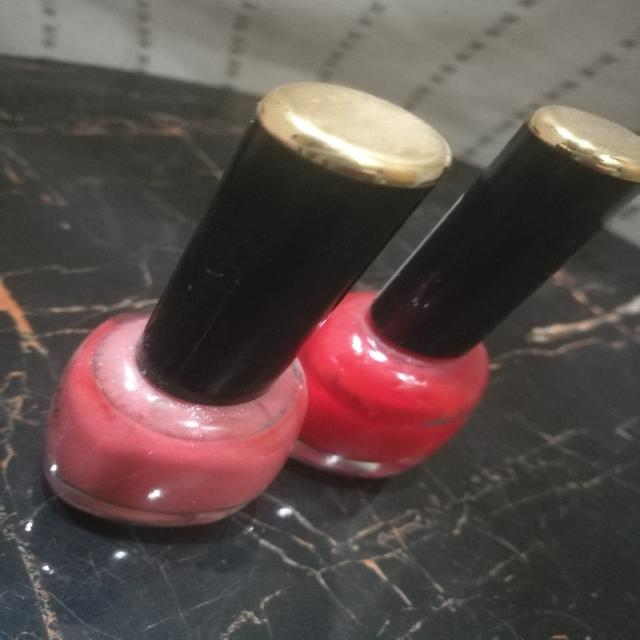nail polish: (42, 72, 474, 537), (282, 79, 640, 493)
